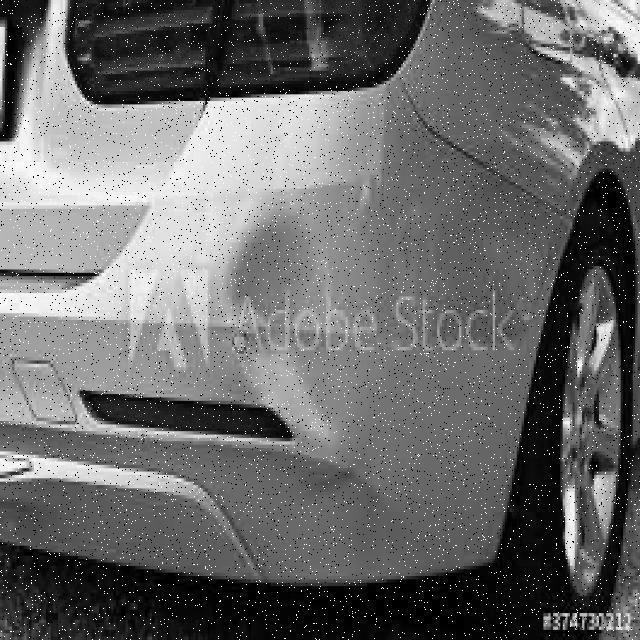rear-bumper-dent: (64, 172, 527, 576)
